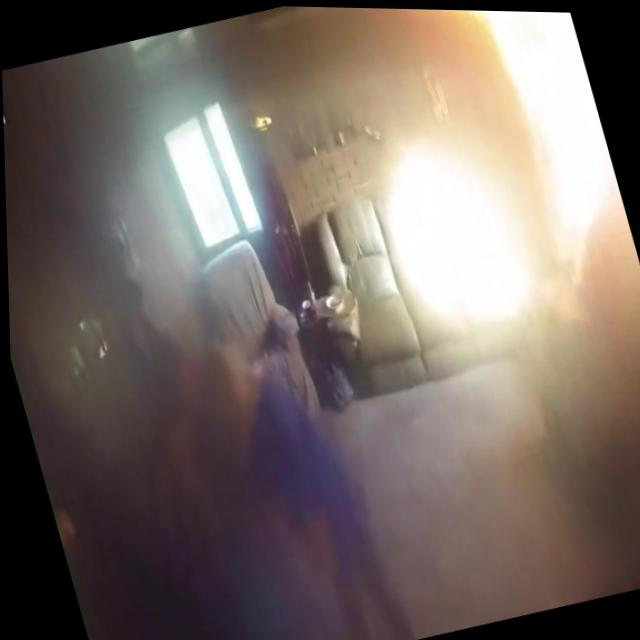fire: (463, 8, 622, 225)
